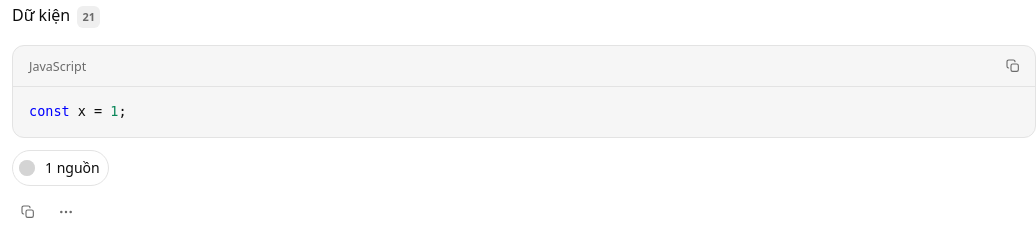
Thanh thao tác và xuất phản hồi › export Markdown giữ đúng phản hồi gốc và thêm URL/ID nguồn thật, không đưa URL nguy hiểm
This screenshot has width=1036, height=250.
Click the button named "Thêm thao tác".
click(66, 212)  # box x1=50 y1=196 x2=82 y2=228
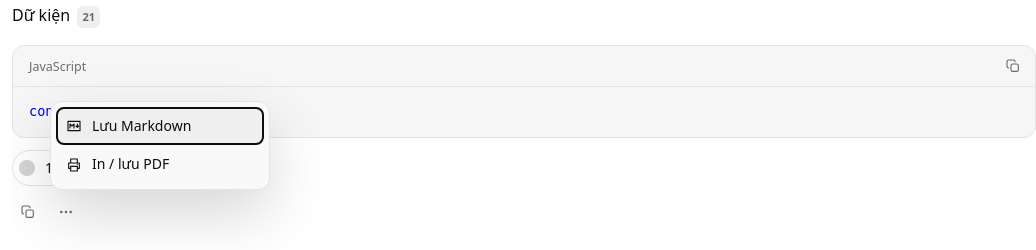
Click the menu item "Lưu Markdown".
click(160, 126)  # box x1=56 y1=107 x2=264 y2=145
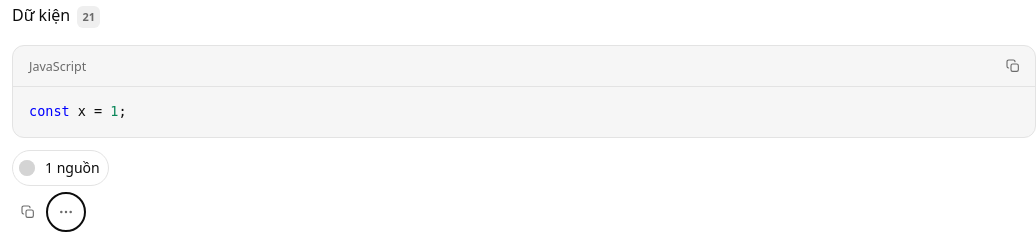
expect the menu is gone: met
